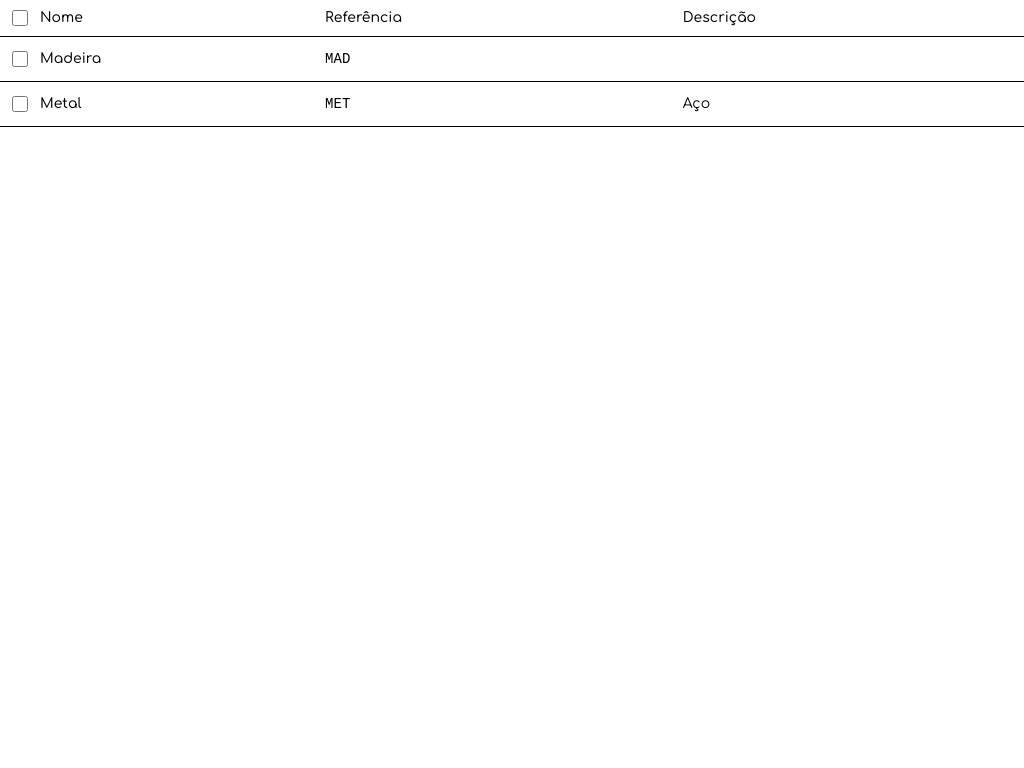
CategoryListTableFrame bulk delete › bulk deletes selected categories after confirmation
The width and height of the screenshot is (1024, 768).
Click the checkbox named "Selecionar Madeira" at (20, 59), box [12,51,28,67]
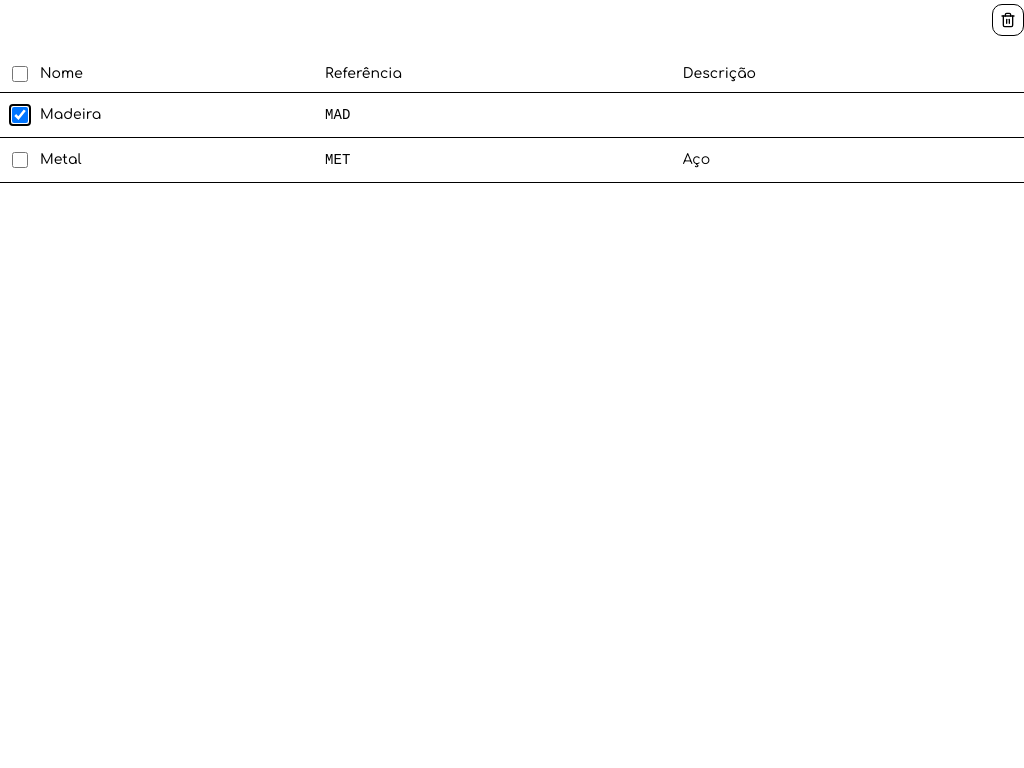
Click the button named "Excluir selecionadas" at (1008, 20), box [992,4,1023,36]
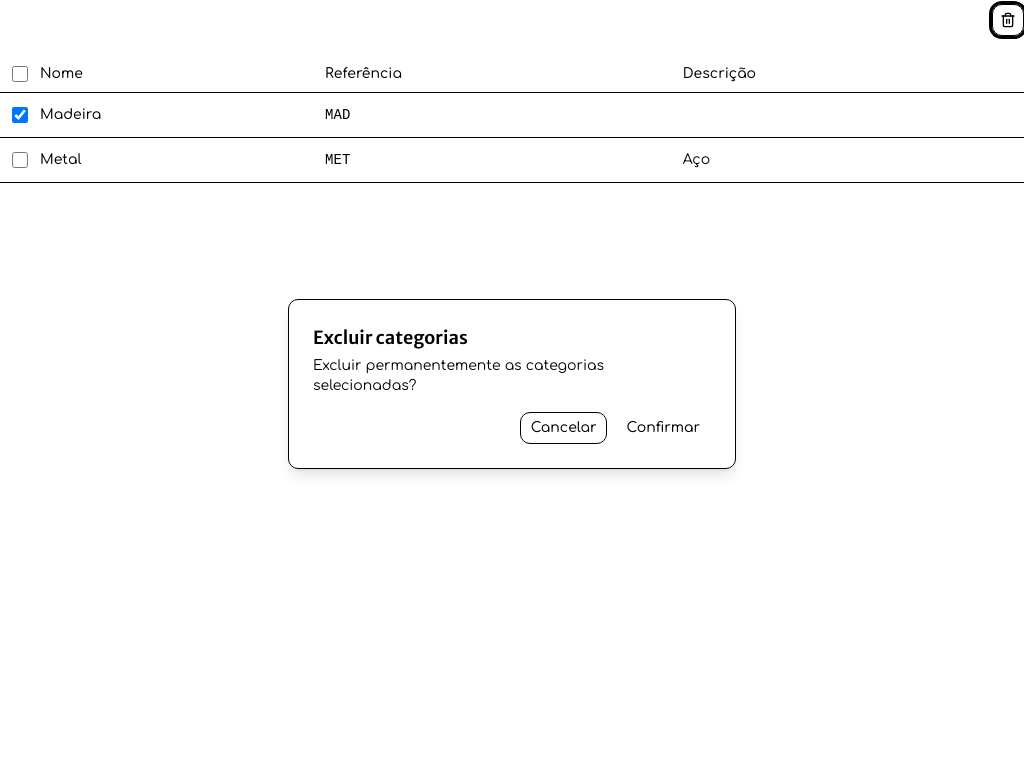
Click the button "Confirmar" at (663, 428), box [615,412,711,444]
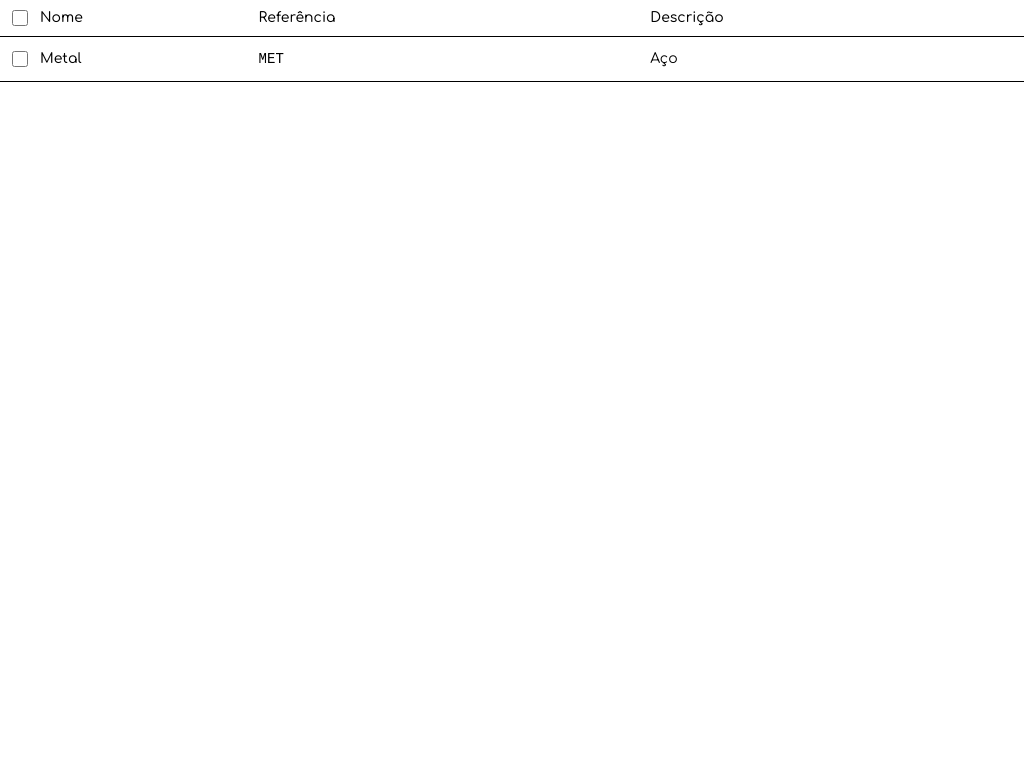
Expected: the link "Metal" is shown, [40,51,82,66]
Now the link "Madeira" is gone
